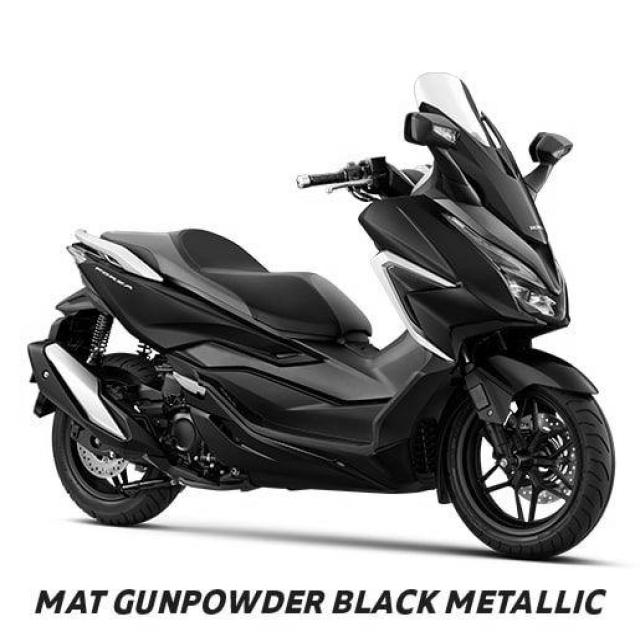Motorcycle: (29, 74, 616, 560)
